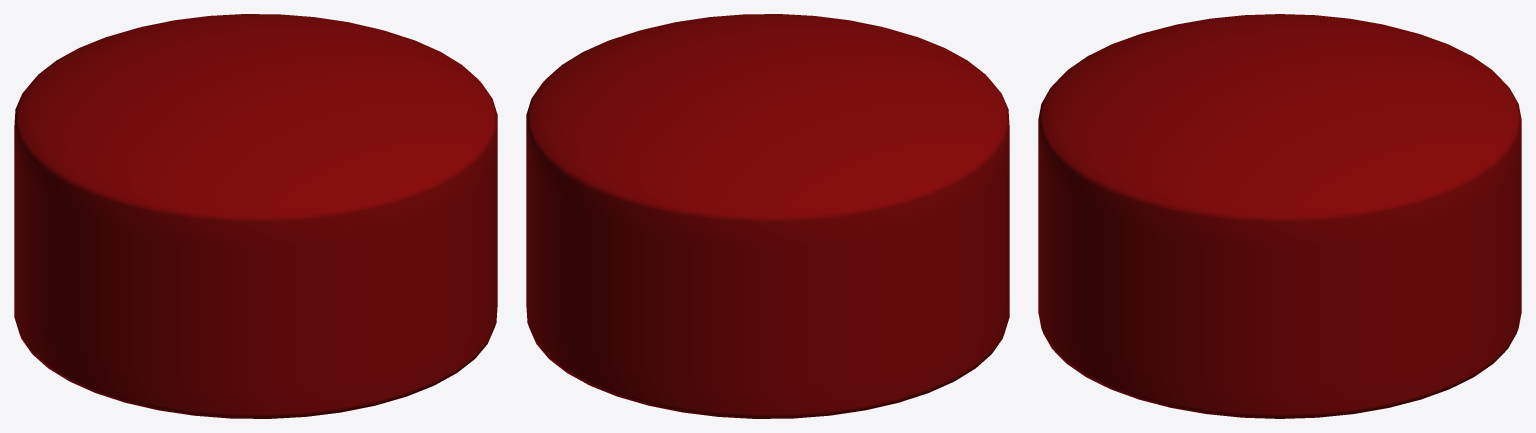
The model's file is Pulsante 1.fbx.
The picture shows the model from 3 angles, left to right: view 1: azimuth 30°, elevation 25°; view 2: azimuth 150°, elevation 25°; view 3: azimuth 270°, elevation 25°; orthographic projection.
Parts seen in each view (by area): view 1: polySurface60; view 2: polySurface60; view 3: polySurface60.
Boxes of the visible parts, <box> form: polySurface60: <box>14,14,497,418</box>; polySurface60: <box>526,14,1009,418</box>; polySurface60: <box>1038,14,1521,418</box>.
Bounding box in the file's own units: 3.91 × 2.2 × 3.91.
